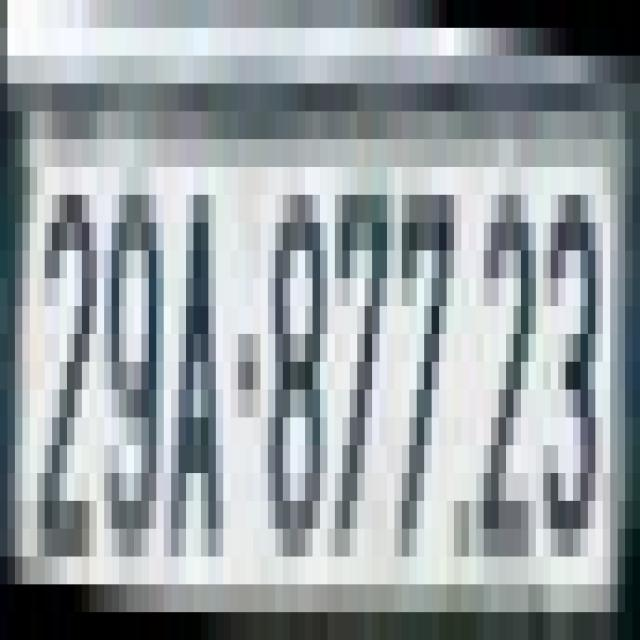2: (37, 167, 97, 556), (476, 195, 536, 556)
3: (543, 195, 603, 556)
7: (394, 167, 454, 556), (335, 167, 387, 556)
8: (268, 167, 327, 556)
9: (104, 167, 156, 556)
A: (164, 167, 223, 556)
